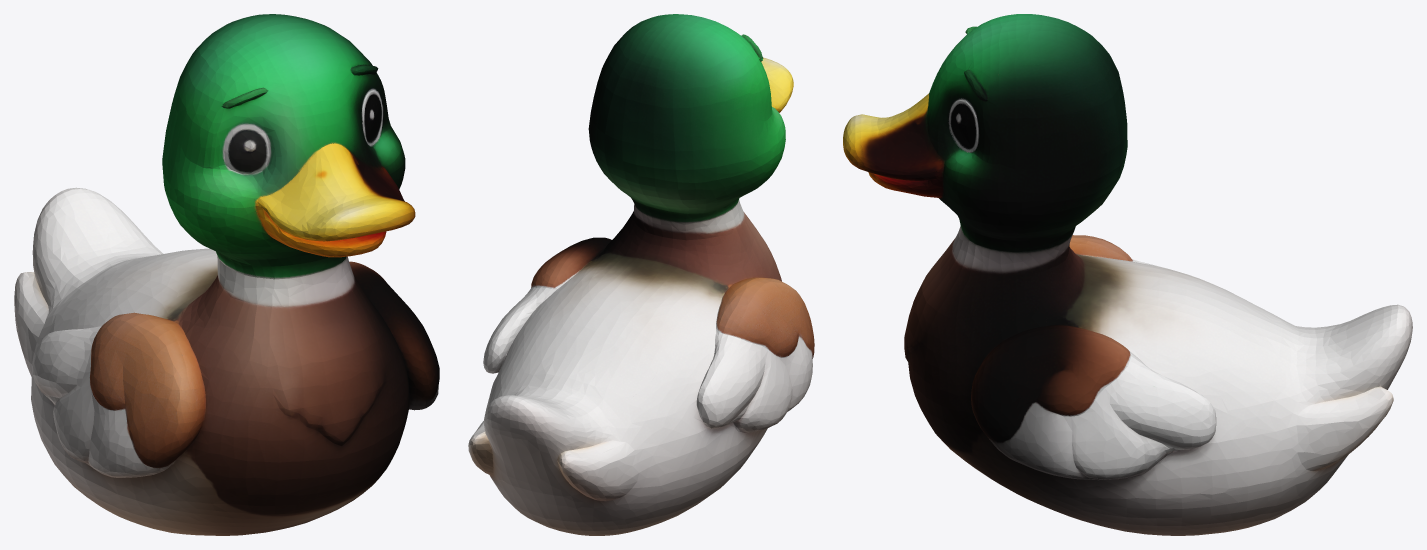
Rendered from duck.glb.
3 views of the same model, side by side, from view 1: azimuth 30°, elevation 25°; view 2: azimuth 150°, elevation 25°; view 3: azimuth 270°, elevation 25° (orthographic). The views are drawn at different scales.
Visible parts, largest first — view 1: world; view 2: world; view 3: world.
Part boxes in pixels (x1=…): world: x1=14, y1=14, x2=439, y2=535; world: x1=468, y1=14, x2=814, y2=535; world: x1=843, y1=14, x2=1412, y2=535.
Size of the model in its own units: 0.6096 by 0.9551 by 0.9997.
1 material, 1 textured.
